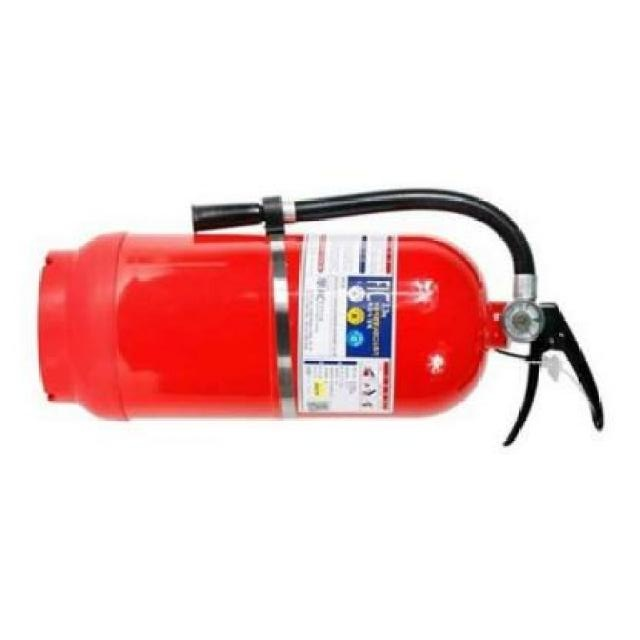fire extinguisher: (39, 187, 605, 447)
